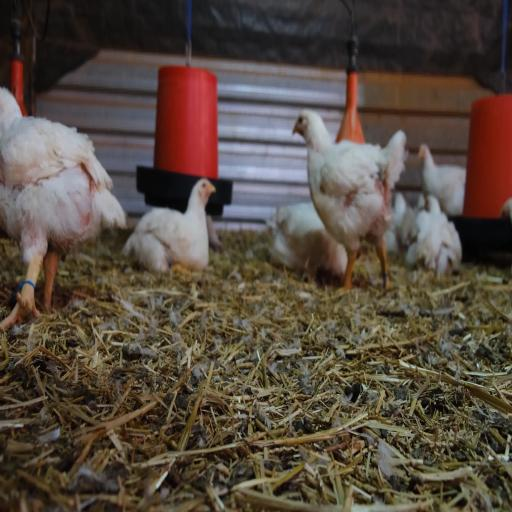healthy: (293, 100, 315, 146), (192, 171, 219, 204)
